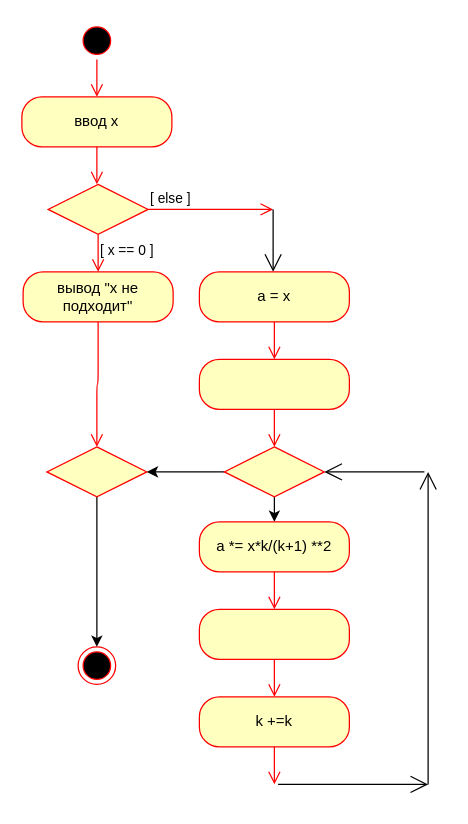
The diagram is 468 pixels wide and 824 high, and some of its shapes have lost their labels. The shapes that lost their labels are listed below. From the top down, each one's box as (x1, y1, x2, y2) in pixels, then its label:
(198, 358, 349, 409): S=a, k=a
(198, 608, 349, 659): S += a
